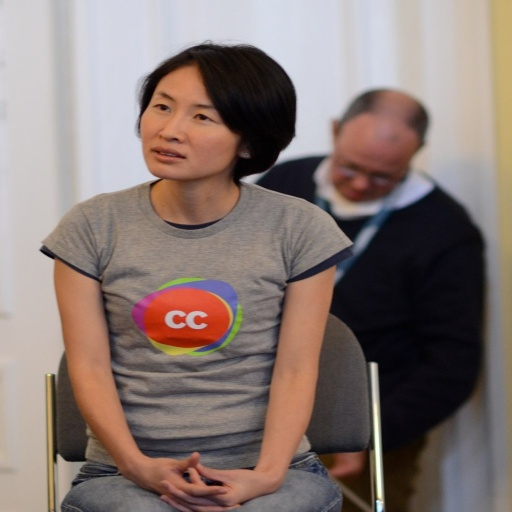hand: (160, 460, 275, 511), (124, 448, 202, 499)
